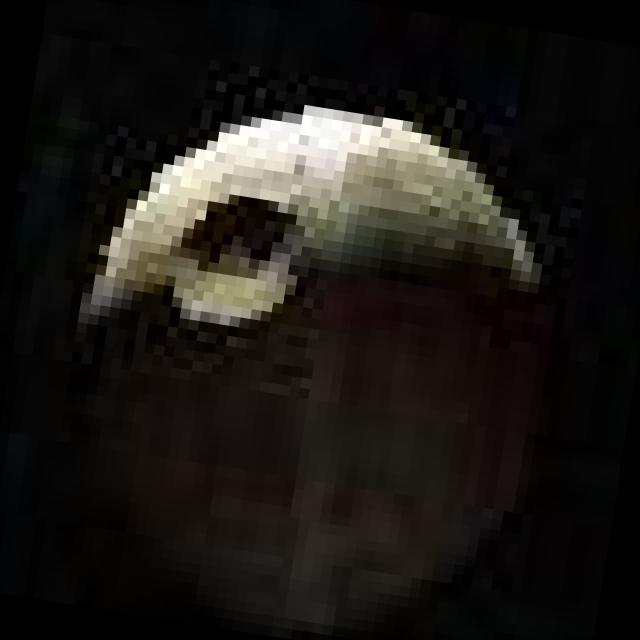Death Star: (63, 89, 571, 640)
